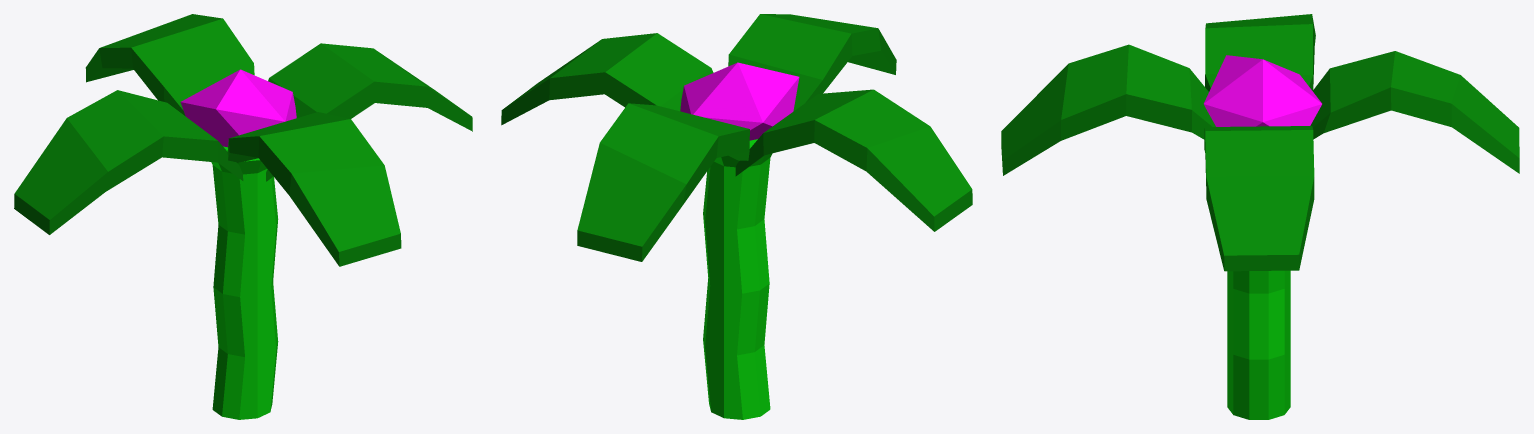
File: flower_1a.fbx
3 views of the same model, side by side, from view 1: azimuth 30°, elevation 25°; view 2: azimuth 150°, elevation 25°; view 3: azimuth 270°, elevation 25° (orthographic). The views are drawn at different scales.
Parts seen in each view (by area): view 1: flower_1a; view 2: flower_1a; view 3: flower_1a.
Boxes of the visible parts, <box> form: flower_1a: <box>14,14,472,419</box>; flower_1a: <box>501,14,972,419</box>; flower_1a: <box>1001,14,1519,419</box>.
Size of the model in its own units: 75.01 by 56.94 by 76.88.
